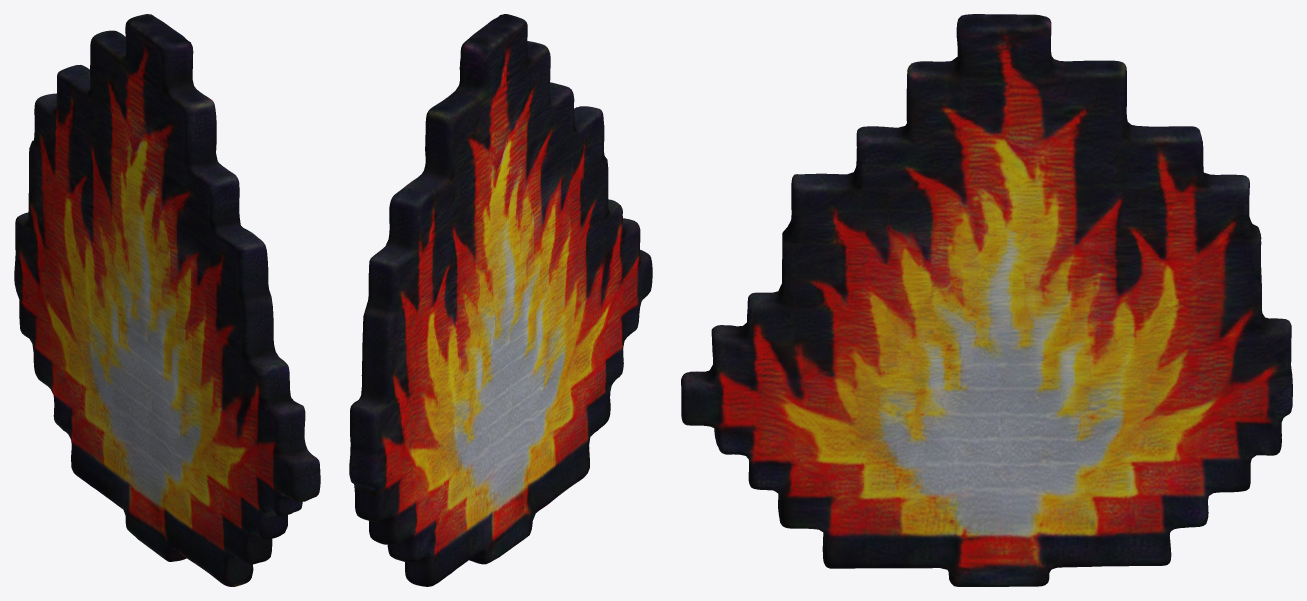
File: flame2.glb
The picture shows the model from 3 angles, left to right: view 1: azimuth 30°, elevation 25°; view 2: azimuth 150°, elevation 25°; view 3: azimuth 270°, elevation 25°; orthographic projection. The views are drawn at different scales.
Parts seen in each view (by area): view 1: mesh; view 2: mesh; view 3: mesh.
Boxes of the visible parts, left/top/right/bottom form: mesh: left=14, top=14, right=320, bottom=586; mesh: left=349, top=14, right=652, bottom=586; mesh: left=681, top=14, right=1292, bottom=586.
Bounding box in the file's own units: 0.064 × 0.9995 × 0.9851.
Materials: 1 (1 with a texture image).
